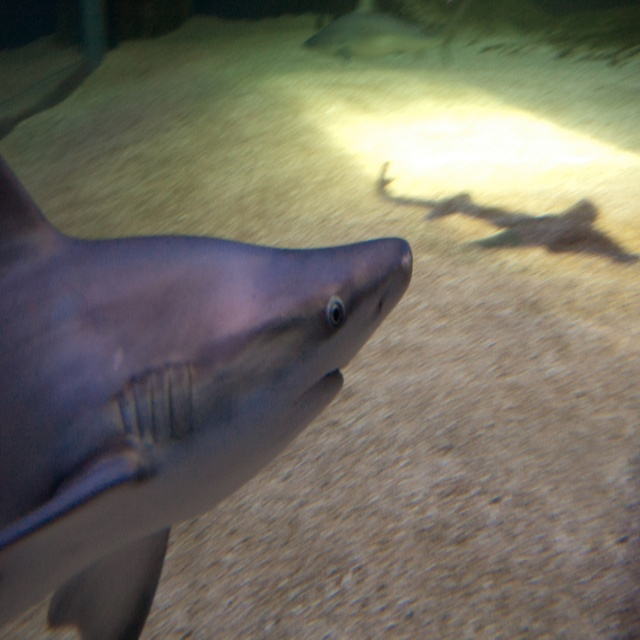Shark: (2, 135, 425, 635)
